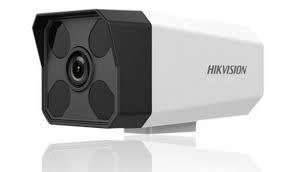tutu: (26, 7, 272, 135)
